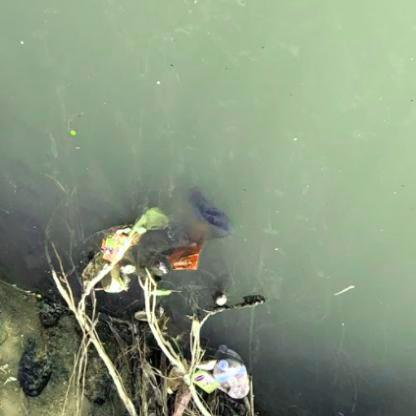Plastic: (210, 356, 253, 404)
Trash: (182, 180, 238, 247), (167, 244, 203, 273), (189, 366, 220, 396)
